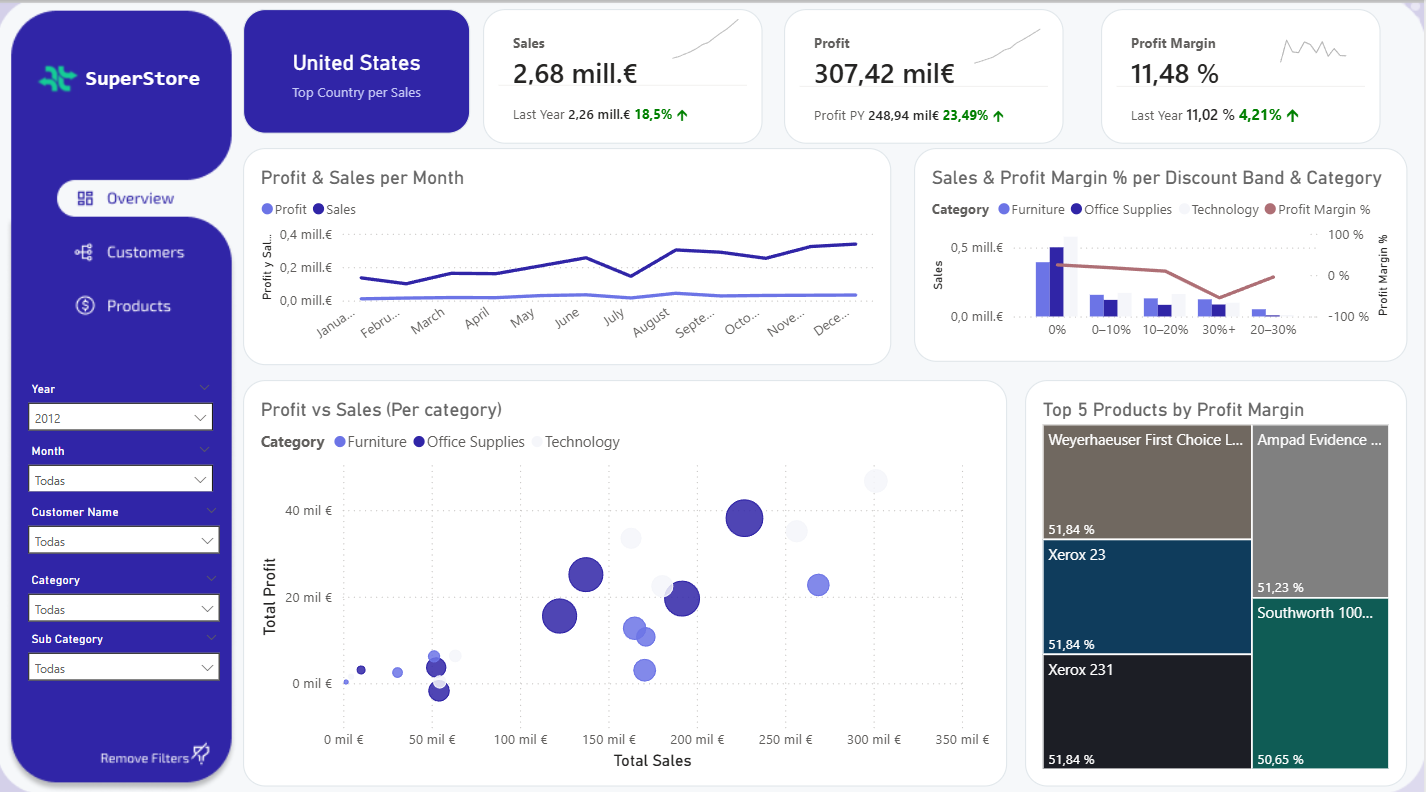

The dashboard page shown, as its layout file describes it:
{"tool":"powerbi","page":{"name":"Main","canvas":[1280,720],"ordinal":0},"visuals":[{"type":"scatterChart","title":"Profit vs Sales (Per category)","fields":{"Y":["_Measures.Profit Sum"],"X":["_Measures.Sales Sum"],"Size":["_Measures.Sum Quantity"],"Category":["DimShipLocation.Market"],"Series":["DimProduct.Category"]},"box":[220.4,341.9,686.4,365.4],"z":0},{"type":"lineClusteredColumnComboChart","title":"Sales & Profit Margin % per Discount Band &  Category","fields":{"Category":["FactSuperStoreOrders.col Discount Band"],"Y2":["_Measures.Profit Margin %"],"Y":["_Measures.Sales Sum"],"Series":["DimProduct.Category"]},"box":[822.5,134.2,442.5,192.2],"z":1000},{"type":"treemap","title":"Top 5 Products by Profit Margin","fields":{"Group":["DimProduct.Product name"],"Values":["_Measures.Profit Margin %"]},"box":[922.2,341.9,342.8,365.4],"z":2000},{"type":"lineChart","title":"Profit & Sales per Month","fields":{"Category":["DimCalendar.MonthText","DimCalendar.Year"],"Y":["_Measures.Profit Sum","_Measures.Sales Sum"]},"box":[220.4,134.2,582.2,195],"z":3000},{"type":"group","id":"g1","title":"Grupo 1","box":[31,55,157,45],"z":5000},{"type":"cardVisual","fields":{"Data":["_Measures.Profit KPI"]},"box":[706,9,251,121],"z":6000,"group":"g3"},{"type":"cardVisual","fields":{"Data":["_Measures.Profit Margin %"]},"box":[990,9,251,121],"z":6000,"group":"g4"},{"type":"slicer","title":"Market","fields":{"Values":["DimCustomer.Customer Name"]},"box":[17,448.7,192.2,51.7],"z":6000},{"type":"cardVisual","fields":{"Data":["_Measures.Sales KPI"]},"box":[435,9.3,251,120.7],"z":7000,"group":"g2"},{"type":"slicer","title":"Year","fields":{"Values":["DimCalendar.Year"]},"box":[17,338.1,185.9,52.6],"z":7000},{"type":"slicer","title":"Year","fields":{"Values":["DimCalendar.MonthText"]},"box":[17,394.3,185.9,48.1],"z":8000},{"type":"pageNavigator","box":[45.8,154.4,143.6,152.6],"z":9000},{"type":"actionButton","box":[73,667,118,40],"z":10000},{"type":"slicer","title":"Market","fields":{"Values":["DimProduct.Category"]},"box":[17,509.5,192.2,53.5],"z":11000},{"type":"slicer","title":"Market","fields":{"Values":["DimProduct.Sub Category"]},"box":[17,563,192.2,53.5],"z":12000},{"type":"card","title":"Profit","fields":{"Values":["_Measures.Top Country per Sales"]},"box":[220,9,204,112],"z":13000},{"type":"group","id":"g2","title":"Grupo 3","box":[435,0,260,130],"z":14000},{"type":"image","box":[31,55,42,37],"z":14000,"group":"g1"},{"type":"group","id":"g3","title":"Grupo 4","box":[706,4,261,126],"z":15000},{"type":"textbox","box":[73,55,115,44],"z":15000,"group":"g1"},{"type":"lineChart","fields":{"Category":["DimCalendar.Month"],"Y":["_Measures.Sales CY"]},"box":[585,0,110,61],"z":17500,"group":"g2"},{"type":"lineChart","fields":{"Category":["DimCalendar.Month"],"Y":["_Measures.Profit CY"]},"box":[857,4,110,61],"z":17500,"group":"g3"},{"type":"lineChart","fields":{"Category":["DimCalendar.Month"],"Y":["_Measures.Profit Margin %"]},"box":[1131,9,110,61],"z":17500,"group":"g4"},{"type":"group","id":"g4","title":"Grupo 2","box":[990,9,251,121],"z":17501},{"type":"shape","box":[220,5,1038,130],"z":19002}]}

Visuals, with their boxes in screenshot pixels (x1, y1, x2, y2), scaled from the page's 1280x720 canvas onto the 1426x792 screenshot:
"Profit vs Sales (Per category)" scatterChart: region(246, 376, 1010, 778)
"Sales & Profit Margin % per Discount Band &  Category" lineClusteredColumnComboChart: region(916, 148, 1409, 359)
"Top 5 Products by Profit Margin" treemap: region(1027, 376, 1409, 778)
"Profit & Sales per Month" lineChart: region(246, 148, 894, 362)
"Grupo 1" group: region(35, 61, 209, 110)
cardVisual - _Measures.Profit KPI: region(787, 10, 1066, 143)
cardVisual - _Measures.Profit Margin %: region(1103, 10, 1383, 143)
"Market" slicer: region(19, 494, 233, 550)
cardVisual - _Measures.Sales KPI: region(485, 10, 764, 143)
"Year" slicer: region(19, 372, 226, 430)
"Year" slicer: region(19, 434, 226, 487)
pageNavigator: region(51, 170, 211, 338)
actionButton: region(81, 734, 213, 778)
"Market" slicer: region(19, 560, 233, 619)
"Market" slicer: region(19, 619, 233, 678)
"Profit" card: region(245, 10, 472, 133)
"Grupo 3" group: region(485, 0, 774, 143)
image: region(35, 61, 81, 101)
"Grupo 4" group: region(787, 4, 1077, 143)
textbox: region(81, 61, 209, 109)
lineChart - DimCalendar.Month x _Measures.Sales CY: region(652, 0, 774, 67)
lineChart - DimCalendar.Month x _Measures.Profit CY: region(955, 4, 1077, 72)
lineChart - DimCalendar.Month x _Measures.Profit Margin %: region(1260, 10, 1383, 77)
"Grupo 2" group: region(1103, 10, 1383, 143)
shape: region(245, 6, 1401, 148)
